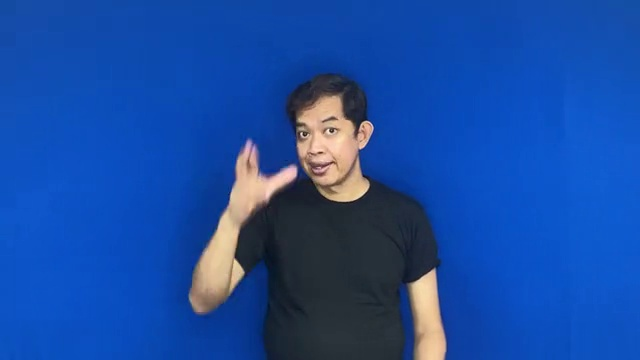chicken: (214, 133, 302, 220)
